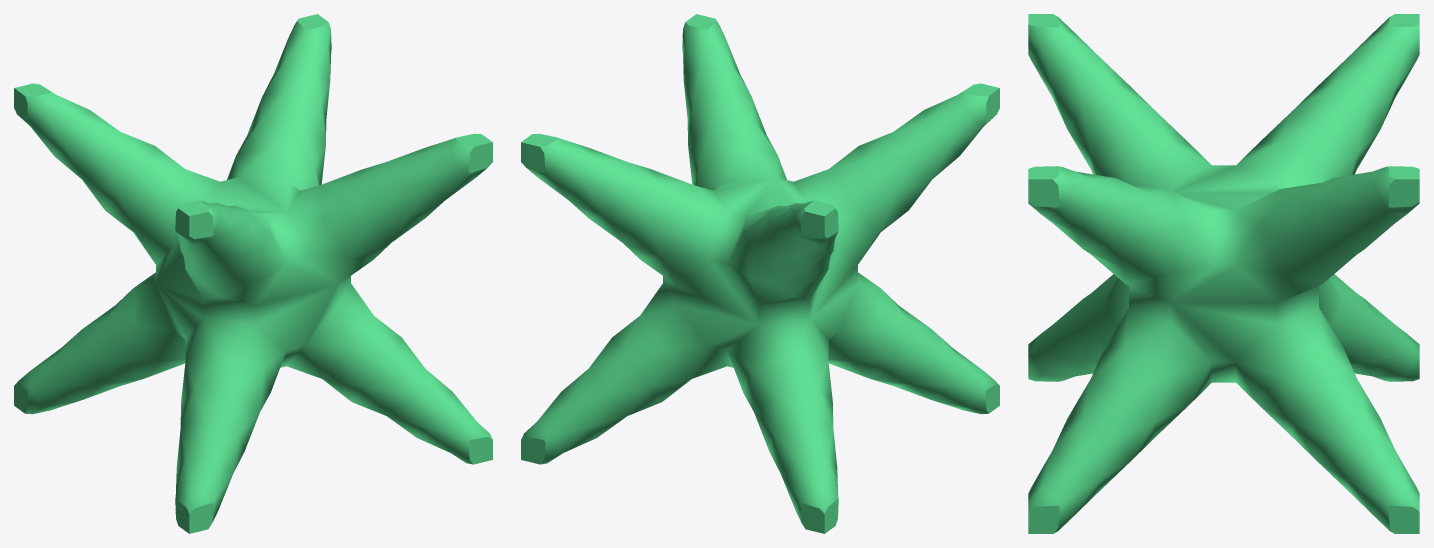
The model's file is Variation3.glb.
3 views of the same model, side by side, from view 1: azimuth 30°, elevation 25°; view 2: azimuth 150°, elevation 25°; view 3: azimuth 270°, elevation 25° (orthographic). The views are drawn at different scales.
Visible parts, largest first — view 1: Mesh_0.009; view 2: Mesh_0.009; view 3: Mesh_0.009.
Part boxes in pixels (left/top/right/bottom): Mesh_0.009: left=14, top=14, right=492, bottom=533; Mesh_0.009: left=521, top=14, right=999, bottom=533; Mesh_0.009: left=1028, top=14, right=1419, bottom=533.
Bounding box in the file's own units: 1 × 1 × 1.
